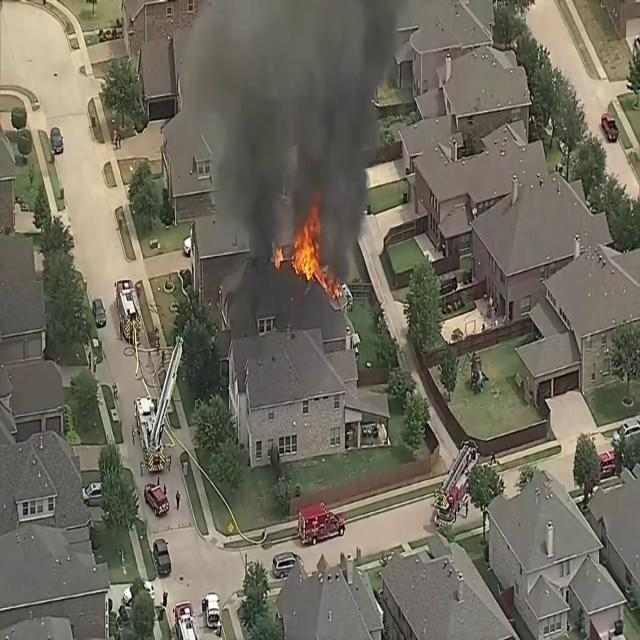Fire: (290, 205, 326, 287)
Smoke: (187, 1, 400, 264)
